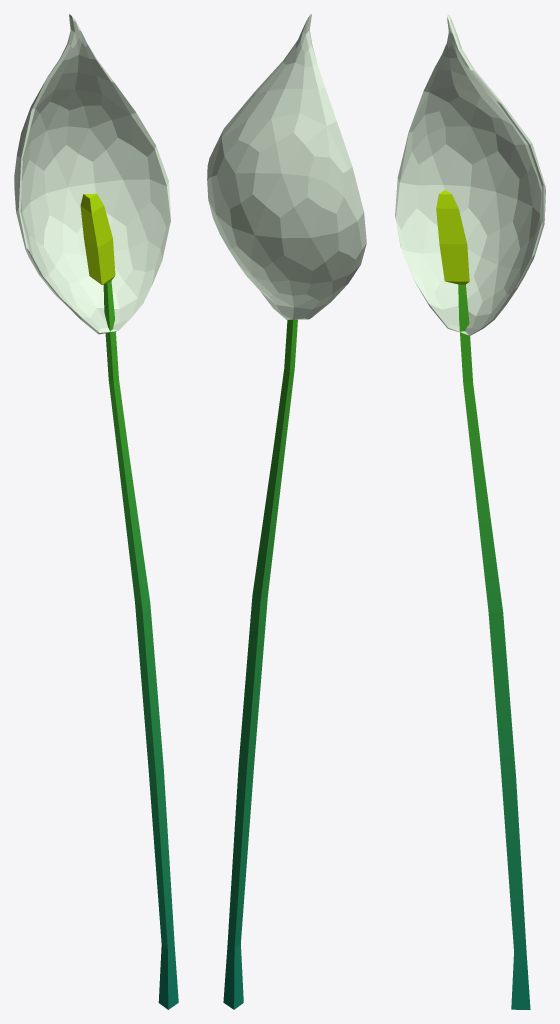
The model's file is PeaceLilly.fbx.
3 views of the same model, side by side, from view 1: azimuth 30°, elevation 25°; view 2: azimuth 150°, elevation 25°; view 3: azimuth 330°, elevation 25° (orthographic). The views are drawn at different scales.
Parts seen in each view (by area): view 1: Icosphere, Stem; view 2: Icosphere, Stem; view 3: Icosphere, Stem.
Part boxes in pixels (x1,y1,x2,y2): Icosphere: (14, 14, 170, 334); Stem: (80, 193, 178, 1009); Icosphere: (207, 14, 366, 319); Stem: (223, 319, 297, 1009); Icosphere: (395, 14, 545, 335); Stem: (436, 189, 530, 1009).
Size of the model in its own units: 584 by 3711 by 346.
